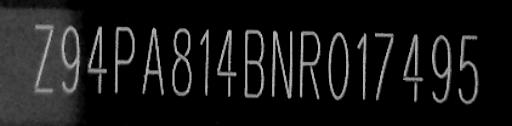letter: (110, 22, 138, 98), (240, 25, 268, 101), (400, 31, 428, 103), (139, 24, 165, 98), (214, 25, 240, 99), (270, 28, 296, 102), (457, 31, 483, 105), (84, 23, 110, 95), (325, 29, 351, 101), (428, 32, 454, 103), (170, 25, 194, 101), (372, 27, 396, 103), (297, 29, 323, 99), (32, 20, 56, 93), (58, 24, 82, 94), (195, 26, 215, 98), (356, 29, 370, 101)
